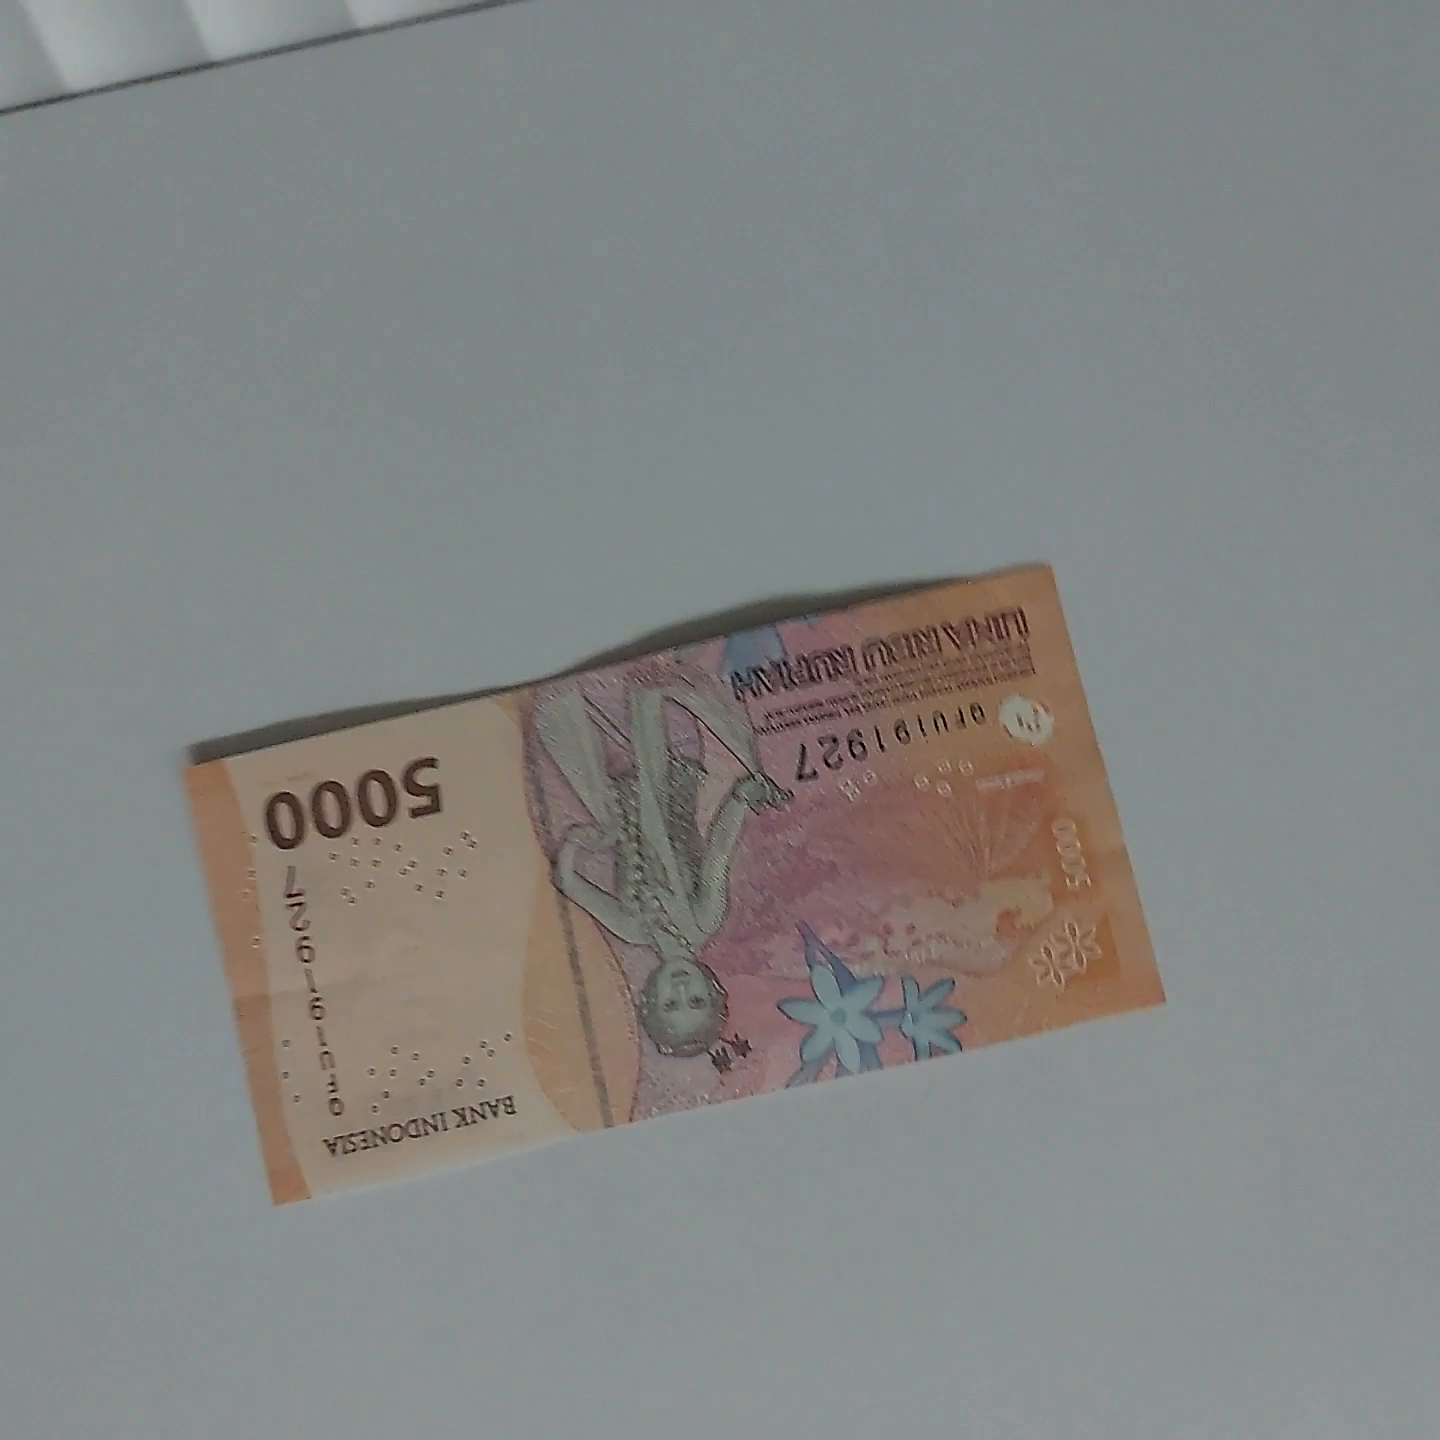5k: (150, 745, 1104, 1254)
